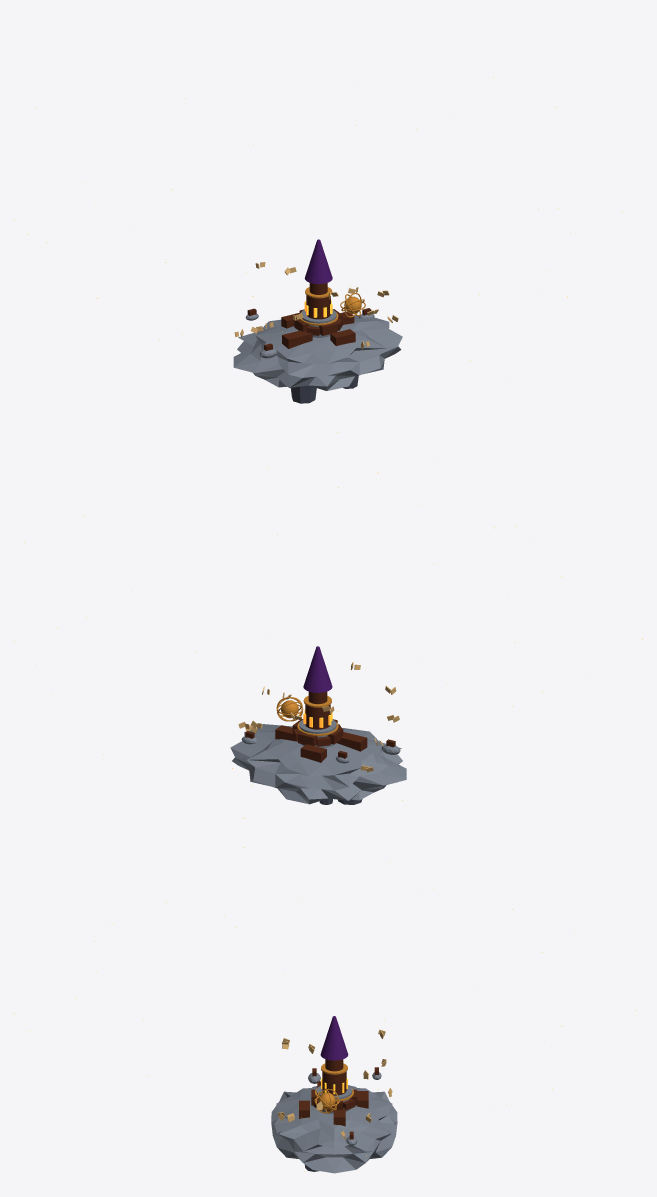
The model's file is astral_library.glb.
The picture shows the model from 3 angles, top to bottom: view 1: azimuth 30°, elevation 25°; view 2: azimuth 150°, elevation 25°; view 3: azimuth 270°, elevation 25°; orthographic projection. The views are drawn at different scales.
Parts seen in each view (by area): view 1: Floating Island Foundation, Gothic Spire; view 2: Floating Island Foundation, Gothic Spire; view 3: Floating Island Foundation, Gothic Spire.
Boxes of the visible parts, x1,y1,x2,y2 form: Floating Island Foundation: (233,315,402,390); Gothic Spire: (304,239,332,284); Floating Island Foundation: (230,724,406,804); Gothic Spire: (303,646,332,692); Floating Island Foundation: (271,1085,397,1173); Gothic Spire: (320,1016,348,1060).
Size of the model in its own units: 47.73 by 20.06 by 47.36.
